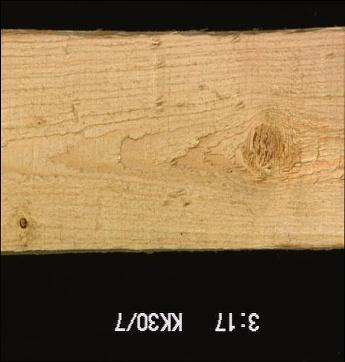dry_knot: (16, 213, 30, 231)
small_knot: (31, 116, 44, 132)
sound_knot: (238, 109, 294, 183)
wave: (254, 236, 342, 258)
